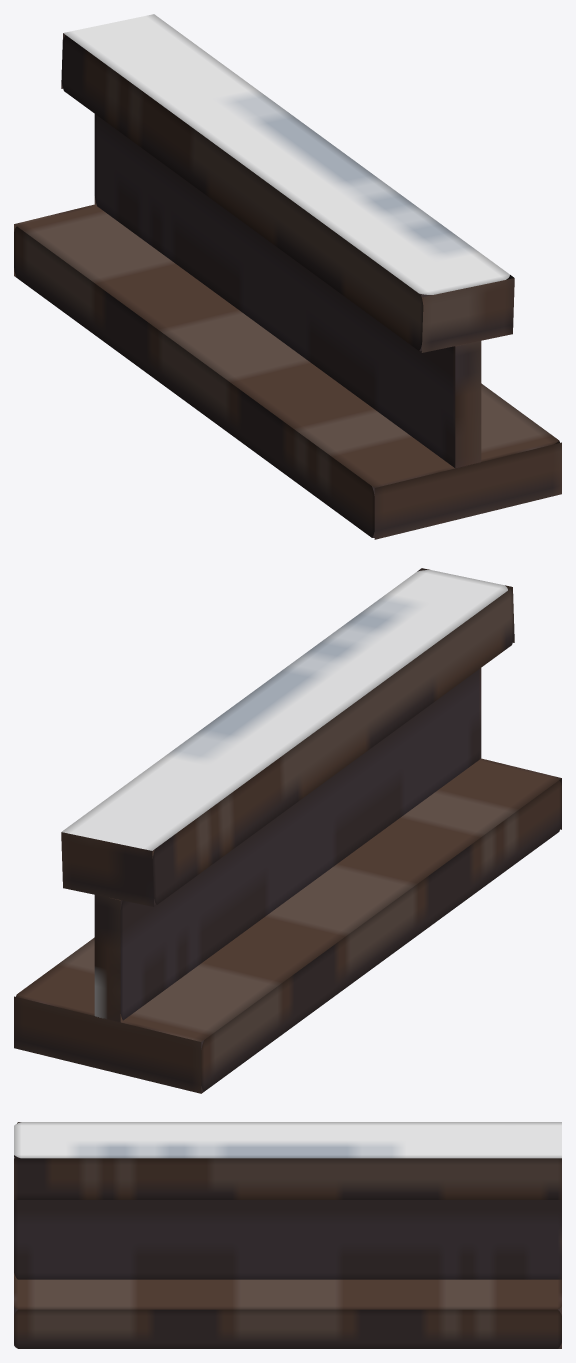
File: segment_left.obj
The picture shows the model from 3 angles, top to bottom: view 1: azimuth 30°, elevation 25°; view 2: azimuth 150°, elevation 25°; view 3: azimuth 270°, elevation 25°; orthographic projection. The views are drawn at different scales.
Parts seen in each view (by area): view 1: tie1, tie3, tie2; view 2: tie1, tie3, tie2; view 3: tie2, tie3, tie1.
Part boxes in pixels (<box>): tie1: <box>14,204,561,539</box>; tie3: <box>61,14,514,352</box>; tie2: <box>94,114,481,468</box>; tie1: <box>14,758,561,1093</box>; tie3: <box>61,568,514,906</box>; tie2: <box>94,668,481,1022</box>; tie2: <box>14,1200,561,1279</box>; tie3: <box>14,1122,561,1199</box>; tie1: <box>14,1273,561,1348</box>.
Bounding box in the file's own units: 0.15 × 0.1767 × 0.5.
